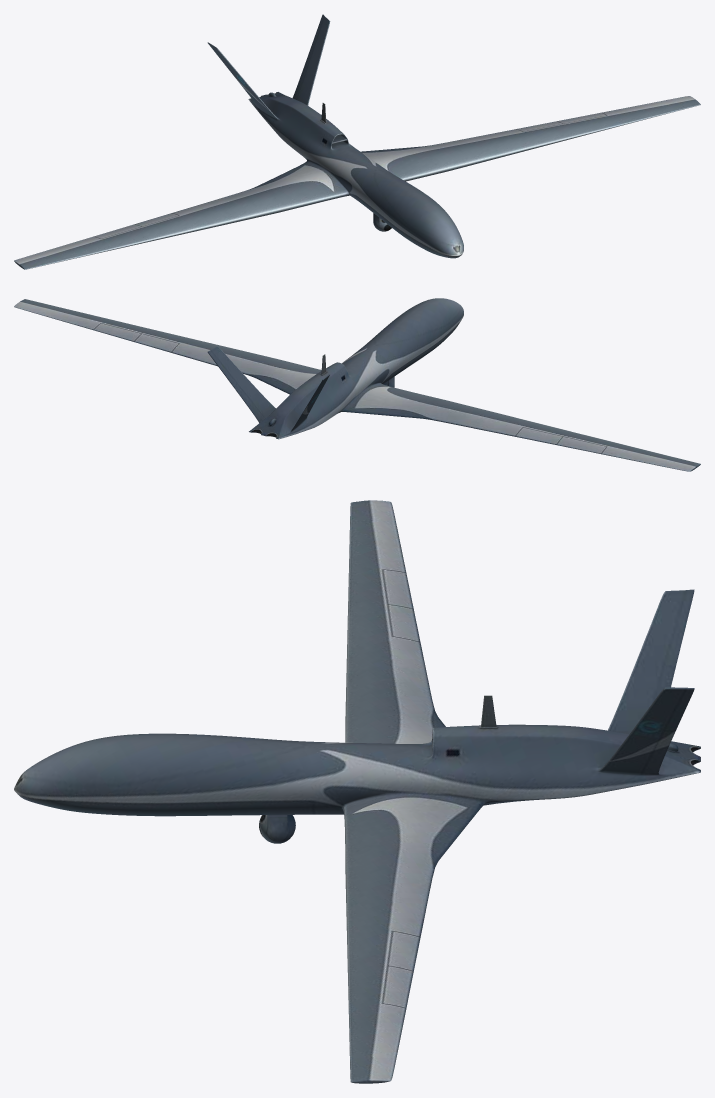
3 renders of one model, top to bottom at view 1: azimuth 30°, elevation 25°; view 2: azimuth 150°, elevation 25°; view 3: azimuth 270°, elevation 25°, orthographic. The views are drawn at different scales.
Visible parts, largest first — view 1: WRJ_WZ10; view 2: WRJ_WZ10; view 3: WRJ_WZ10.
Part boxes in pixels (left/top/right/bottom): WRJ_WZ10: left=14, top=14, right=700, bottom=269; WRJ_WZ10: left=14, top=298, right=700, bottom=471; WRJ_WZ10: left=14, top=500, right=700, bottom=1083.
Size of the model in its own units: 29.45 by 4.82 by 14.74.
Materials: 1 (1 with a texture image).
